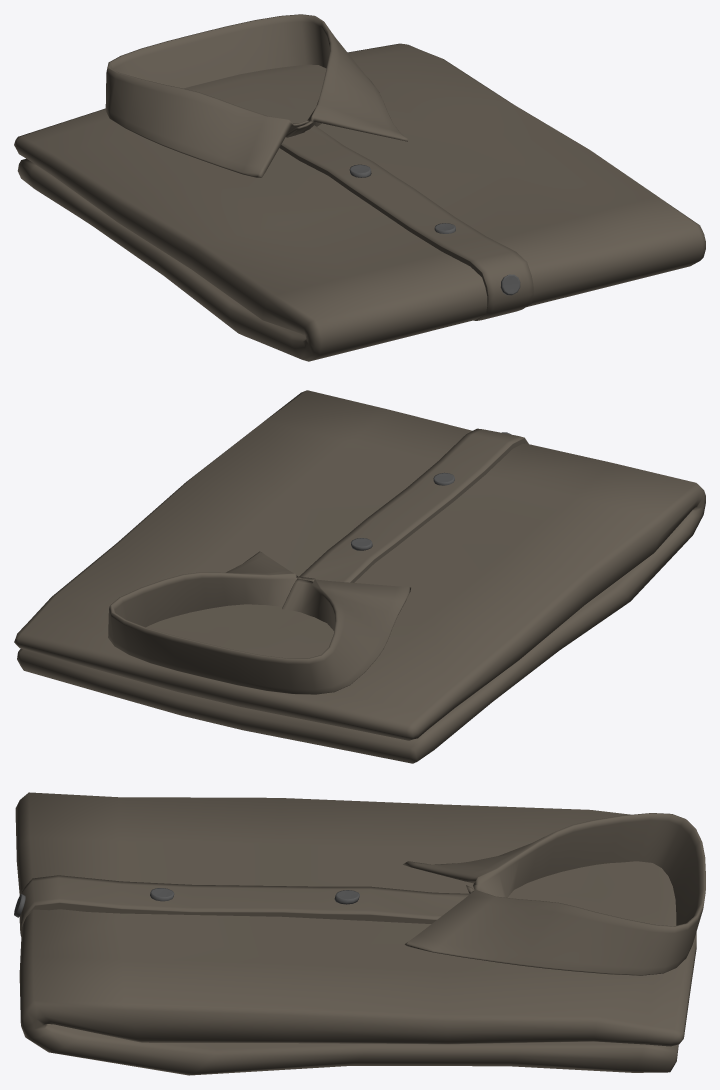
The model's file is Folded_Shirt28.fbx.
The picture shows the model from 3 angles, top to bottom: view 1: azimuth 30°, elevation 25°; view 2: azimuth 150°, elevation 25°; view 3: azimuth 270°, elevation 25°; orthographic projection. The views are drawn at different scales.
Visible parts, largest first — view 1: Folded_Shirt28; view 2: Folded_Shirt28; view 3: Folded_Shirt28.
Boxes of the visible parts, bbox=[...] form: Folded_Shirt28: bbox=[14, 14, 705, 361]; Folded_Shirt28: bbox=[14, 390, 705, 763]; Folded_Shirt28: bbox=[14, 792, 705, 1075].
Size of the model in its own units: 25.02 by 5.51 by 33.24.
